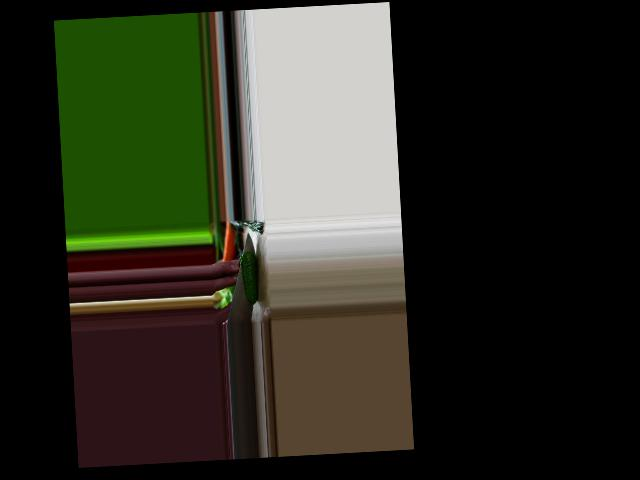cucumber: (241, 250, 259, 304)
